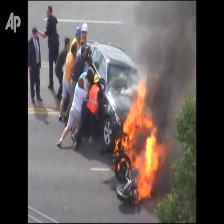fire_h: (121, 71, 167, 200)
fire_l: (117, 158, 130, 171), (113, 137, 120, 159)
